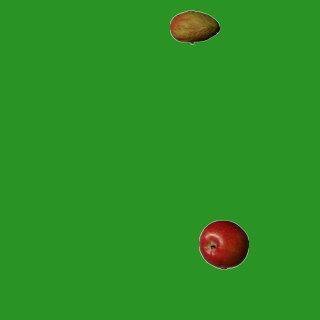Apple Braeburn: (198, 219, 248, 269)
Papaya: (169, 2, 219, 52)
